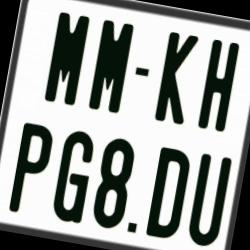8: (89, 136, 137, 234)
D: (144, 146, 191, 242)
G: (49, 128, 98, 225)
H: (196, 38, 240, 134)
K: (153, 31, 198, 124)
M: (43, 10, 90, 107), (86, 20, 132, 116)
P: (7, 121, 54, 215)
U: (185, 152, 234, 250)
